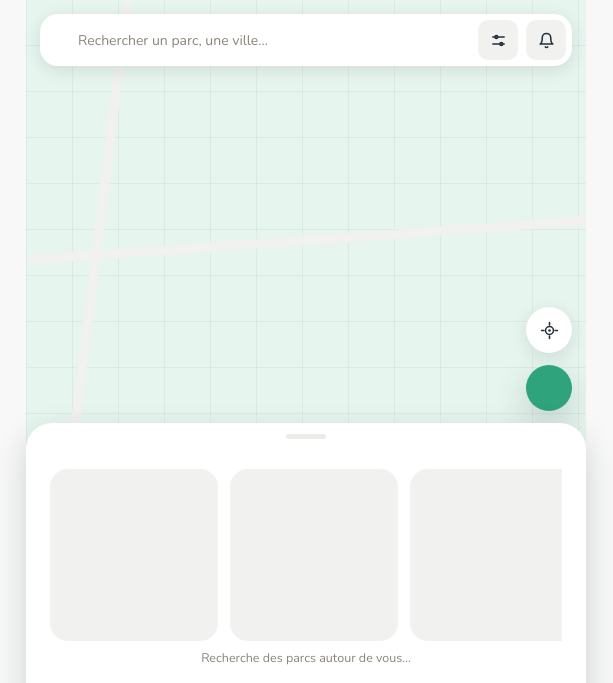
Test: Explorer — recherche › destination vs. location permission › GPS recentre after a search drops the destination and restores « Autour de vous »
This screenshot has width=613, height=683.
Click the button "Rechercher un parc, une ville…" at x=262, y=40, box left=54, top=14, right=470, bottom=66
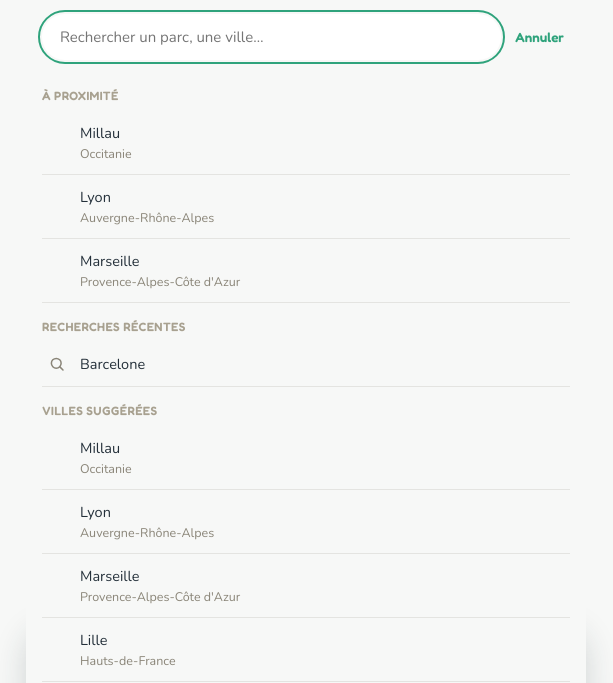
Type "Barcelone" into the field with placeholder "Rechercher un parc, une ville…" at x=272, y=37, box left=42, top=14, right=501, bottom=60
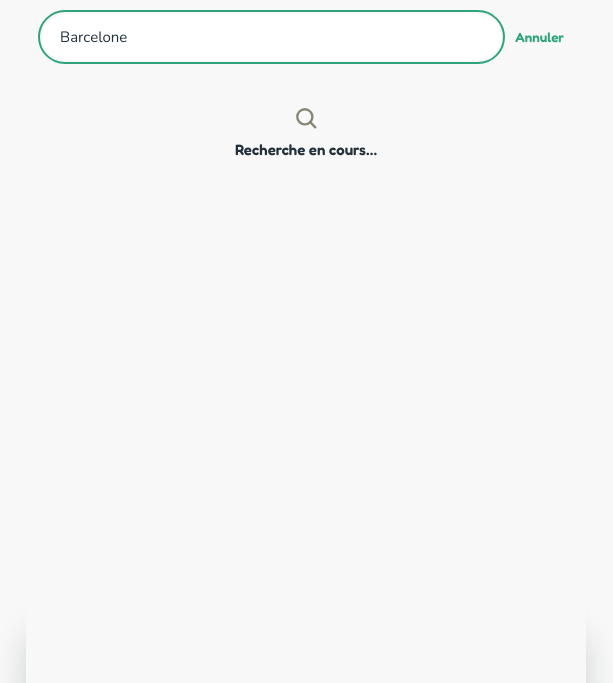
Submit the form with placeholder "Rechercher un parc, une ville…", box left=26, top=0, right=586, bottom=72
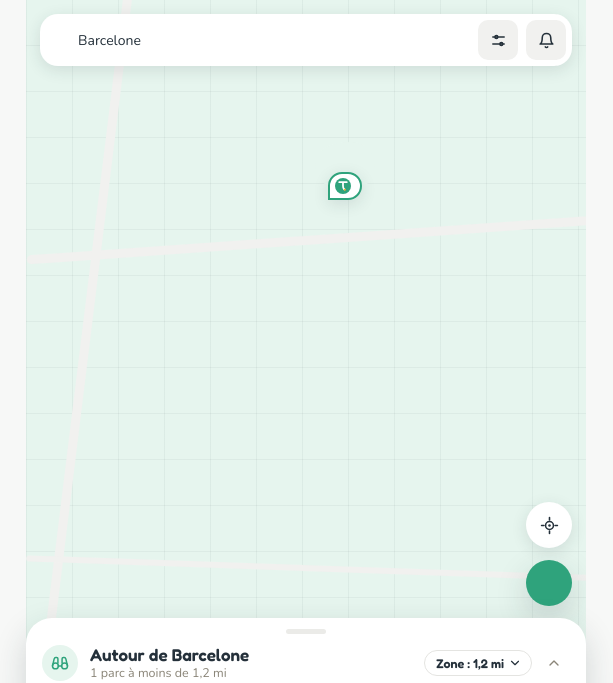
Now the text "Autour de Barcelone" is shown, box left=90, top=644, right=249, bottom=665
Click the button named "Recentrer" at x=549, y=525, box left=526, top=502, right=572, bottom=548
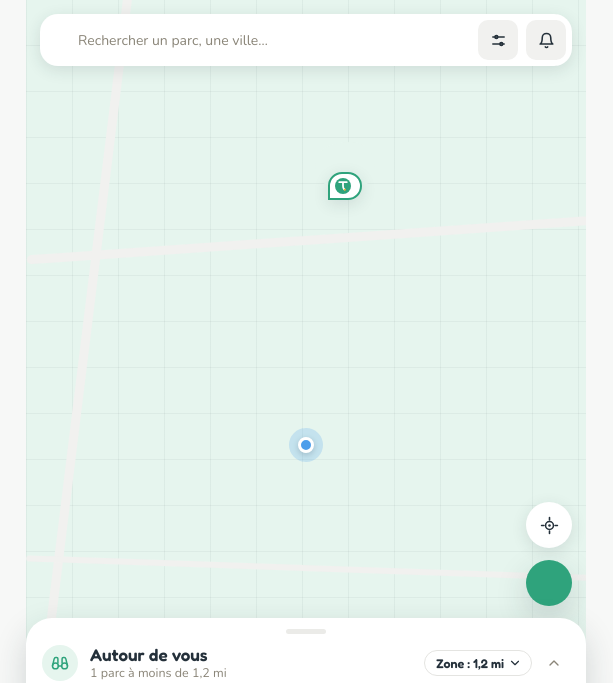
Now the text "Autour de vous" is shown, box left=90, top=644, right=208, bottom=665
